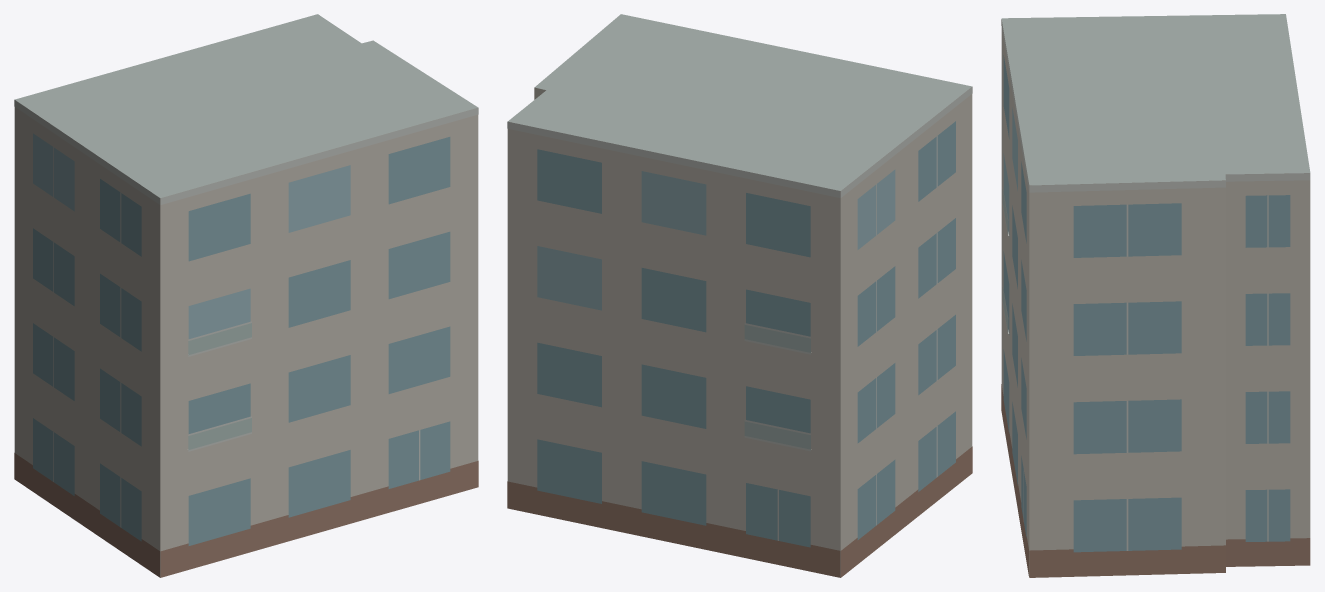
The model's file is survey-upis-32737185.glb.
3 renders of one model, left to right at view 1: azimuth 30°, elevation 25°; view 2: azimuth 150°, elevation 25°; view 3: azimuth 270°, elevation 25°, orthographic. The views are drawn at different scales.
Parts seen in each view (by area): view 1: survey-upis-32737185.tmp; view 2: survey-upis-32737185.tmp; view 3: survey-upis-32737185.tmp.
Part boxes in pixels (<box>): survey-upis-32737185.tmp: <box>14,14,478,577</box>; survey-upis-32737185.tmp: <box>507,14,972,577</box>; survey-upis-32737185.tmp: <box>1001,14,1310,577</box>.
Size of the model in its own units: 12.47 by 13.3 by 9.5.
